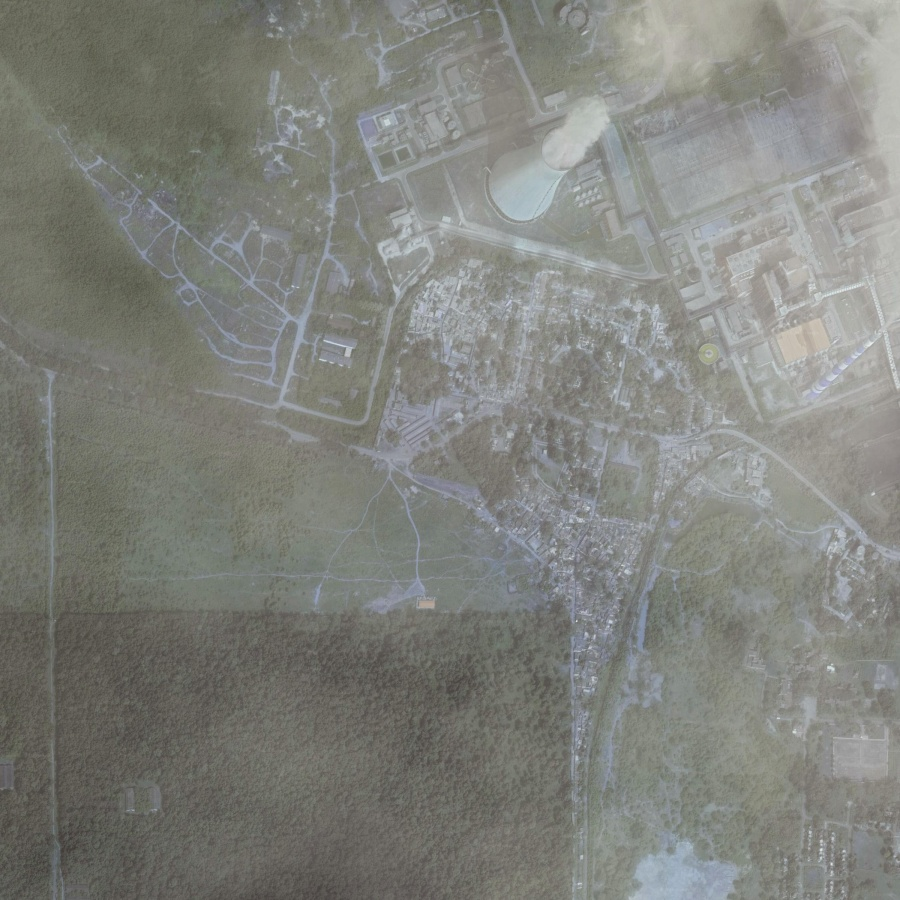PowerPlant: (478, 56, 633, 267)
